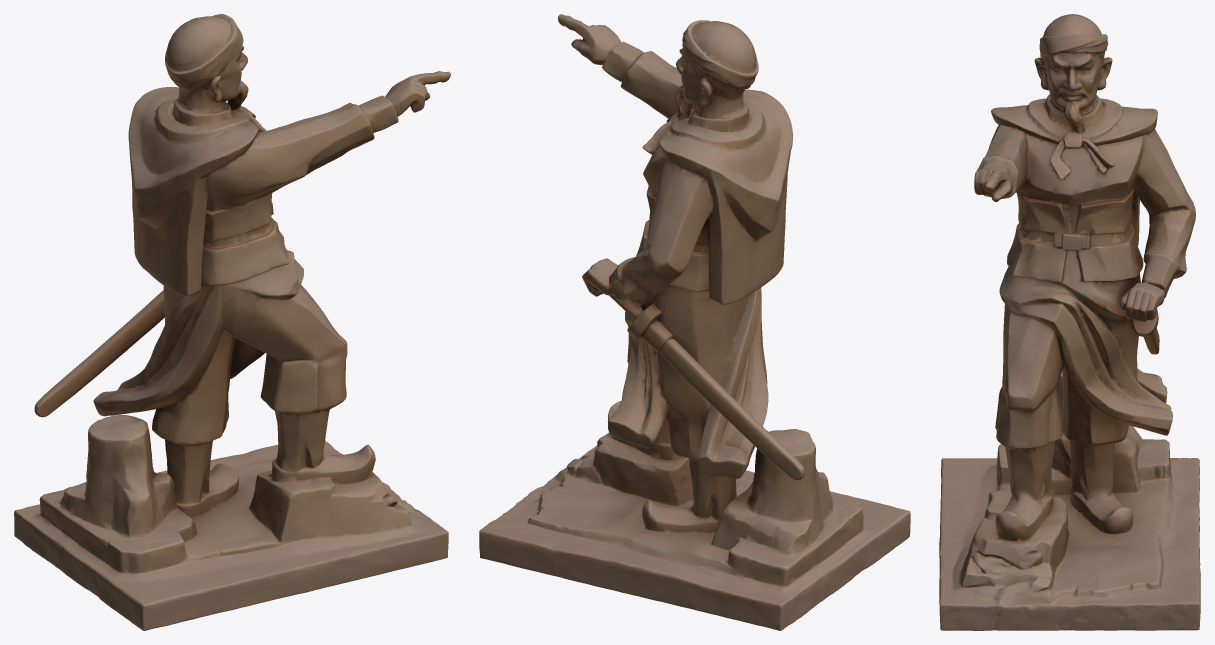
File: ngo_quyen.glb
3 renders of one model, left to right at view 1: azimuth 30°, elevation 25°; view 2: azimuth 150°, elevation 25°; view 3: azimuth 270°, elevation 25°, orthographic.
Visible parts, largest first — view 1: tripo_node_27384492-d6b3-4a03-b488-e95c774971f8; view 2: tripo_node_27384492-d6b3-4a03-b488-e95c774971f8; view 3: tripo_node_27384492-d6b3-4a03-b488-e95c774971f8.
Part boxes in pixels (box(x1,y1,x2,y2)): tripo_node_27384492-d6b3-4a03-b488-e95c774971f8: box(14, 14, 450, 630); tripo_node_27384492-d6b3-4a03-b488-e95c774971f8: box(479, 14, 910, 630); tripo_node_27384492-d6b3-4a03-b488-e95c774971f8: box(939, 14, 1200, 630).
Size of the model in its own units: 0.6496 by 1 by 0.4489.
Materials: 1 (1 with a texture image).
